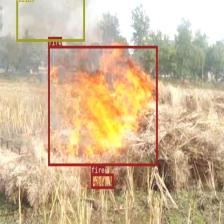fire: (48, 46, 157, 165), (90, 173, 114, 189)
smoke: (16, 0, 85, 41)
